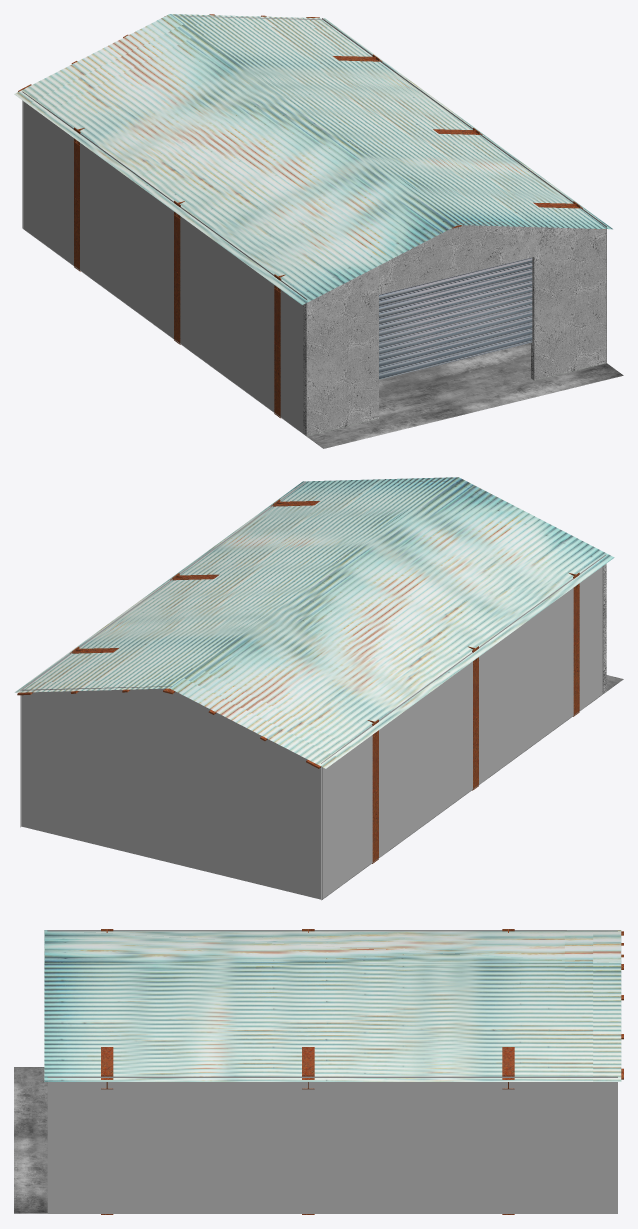
The model's file is souko.fbx.
The picture shows the model from 3 angles, top to bottom: view 1: azimuth 30°, elevation 25°; view 2: azimuth 150°, elevation 25°; view 3: azimuth 270°, elevation 25°; orthographic projection.
Parts seen in each view (by area): view 1: souko; view 2: souko; view 3: souko.
Part boxes in pixels (x1=…): souko: x1=14, y1=14, x2=623, y2=448; souko: x1=14, y1=477, x2=623, y2=900; souko: x1=14, y1=929, x2=623, y2=1214.
Bounding box in the file's own units: 67.89 × 37.08 × 115.
